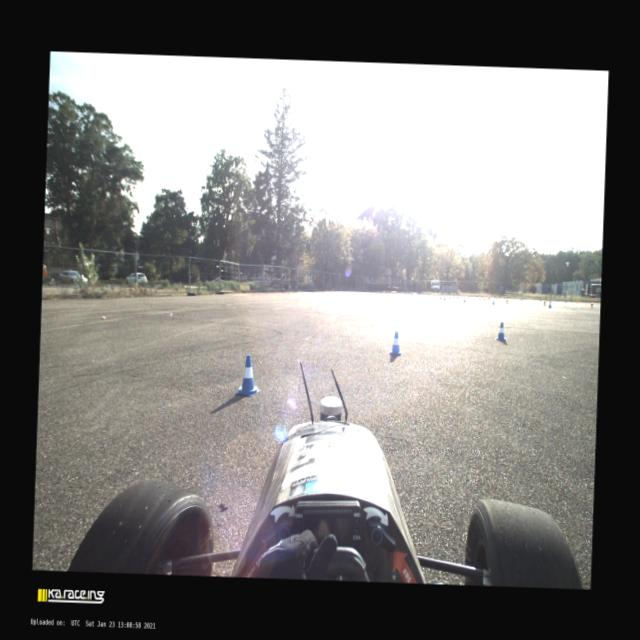blue_cone: (235, 354, 261, 396), (389, 330, 402, 355), (495, 322, 506, 342), (548, 300, 551, 308), (462, 296, 466, 302), (439, 294, 442, 299), (492, 298, 494, 304), (448, 294, 451, 298), (456, 294, 458, 299), (444, 296, 446, 300), (410, 290, 412, 294), (418, 291, 420, 295), (432, 292, 434, 296), (452, 294, 454, 298), (521, 296, 523, 300), (540, 297, 542, 301), (565, 299, 567, 303), (422, 291, 423, 295)
yellow_cone: (543, 300, 546, 306), (478, 296, 481, 301), (590, 301, 592, 308), (506, 298, 508, 304), (576, 298, 578, 304), (483, 296, 485, 301), (468, 294, 470, 298), (488, 296, 490, 300), (546, 298, 548, 302), (497, 296, 498, 300), (520, 296, 521, 300), (488, 295, 488, 300)
